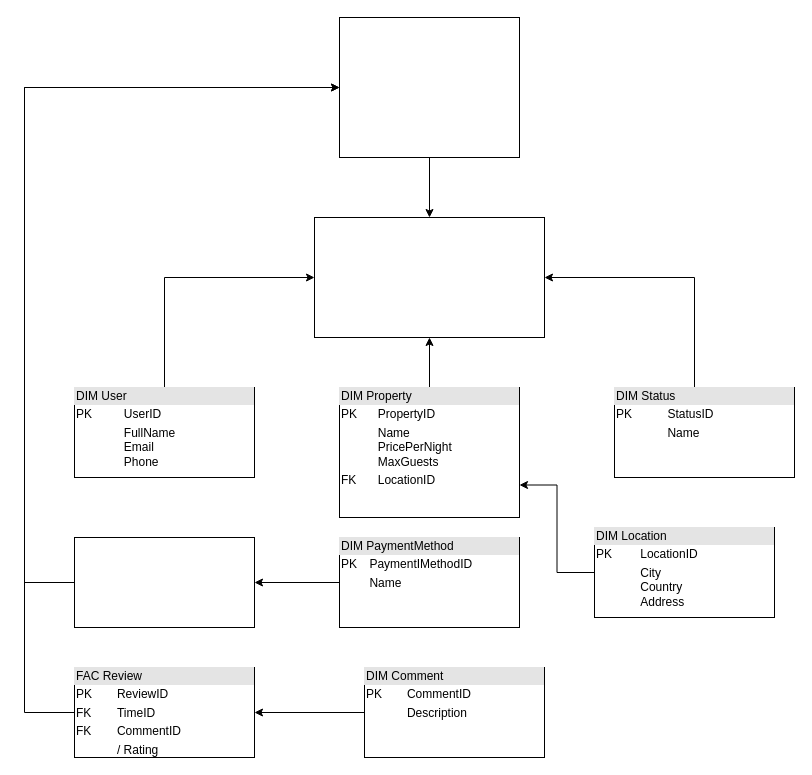
Some shapes in this 812 by 775 pixel diagram are drawn without their labels. The box of each missing label's shape, as (x1, y1, x2, y2) in pixels:
DIM Time PK TimeID Day Month Year Minute Second Milisecond: (338, 16, 520, 158)
FAC Booking PK BookingID FK TimeID FK UserID FK PropertyID FK StatusID: (314, 216, 544, 338)
FAC Payment PK PaymentID FK PaymentMethodID FK TimeID / Amount: (74, 536, 254, 628)
